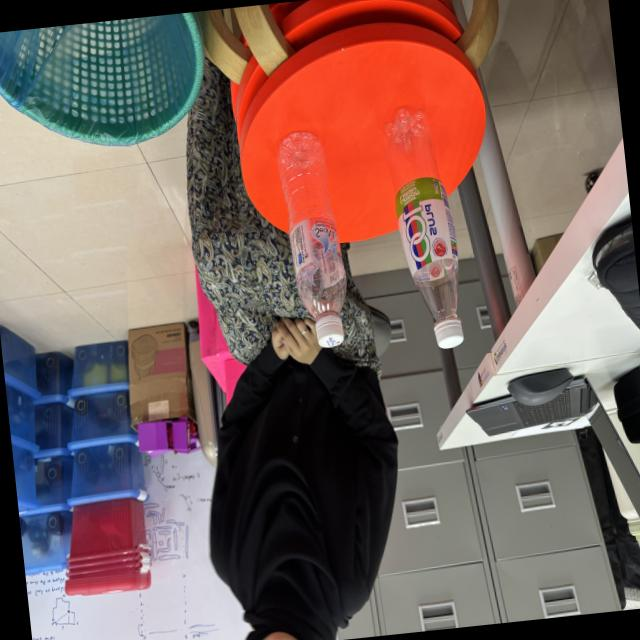dustbin: (0, 10, 219, 181)
plastic_bottle: (373, 91, 478, 363), (270, 119, 358, 356)
